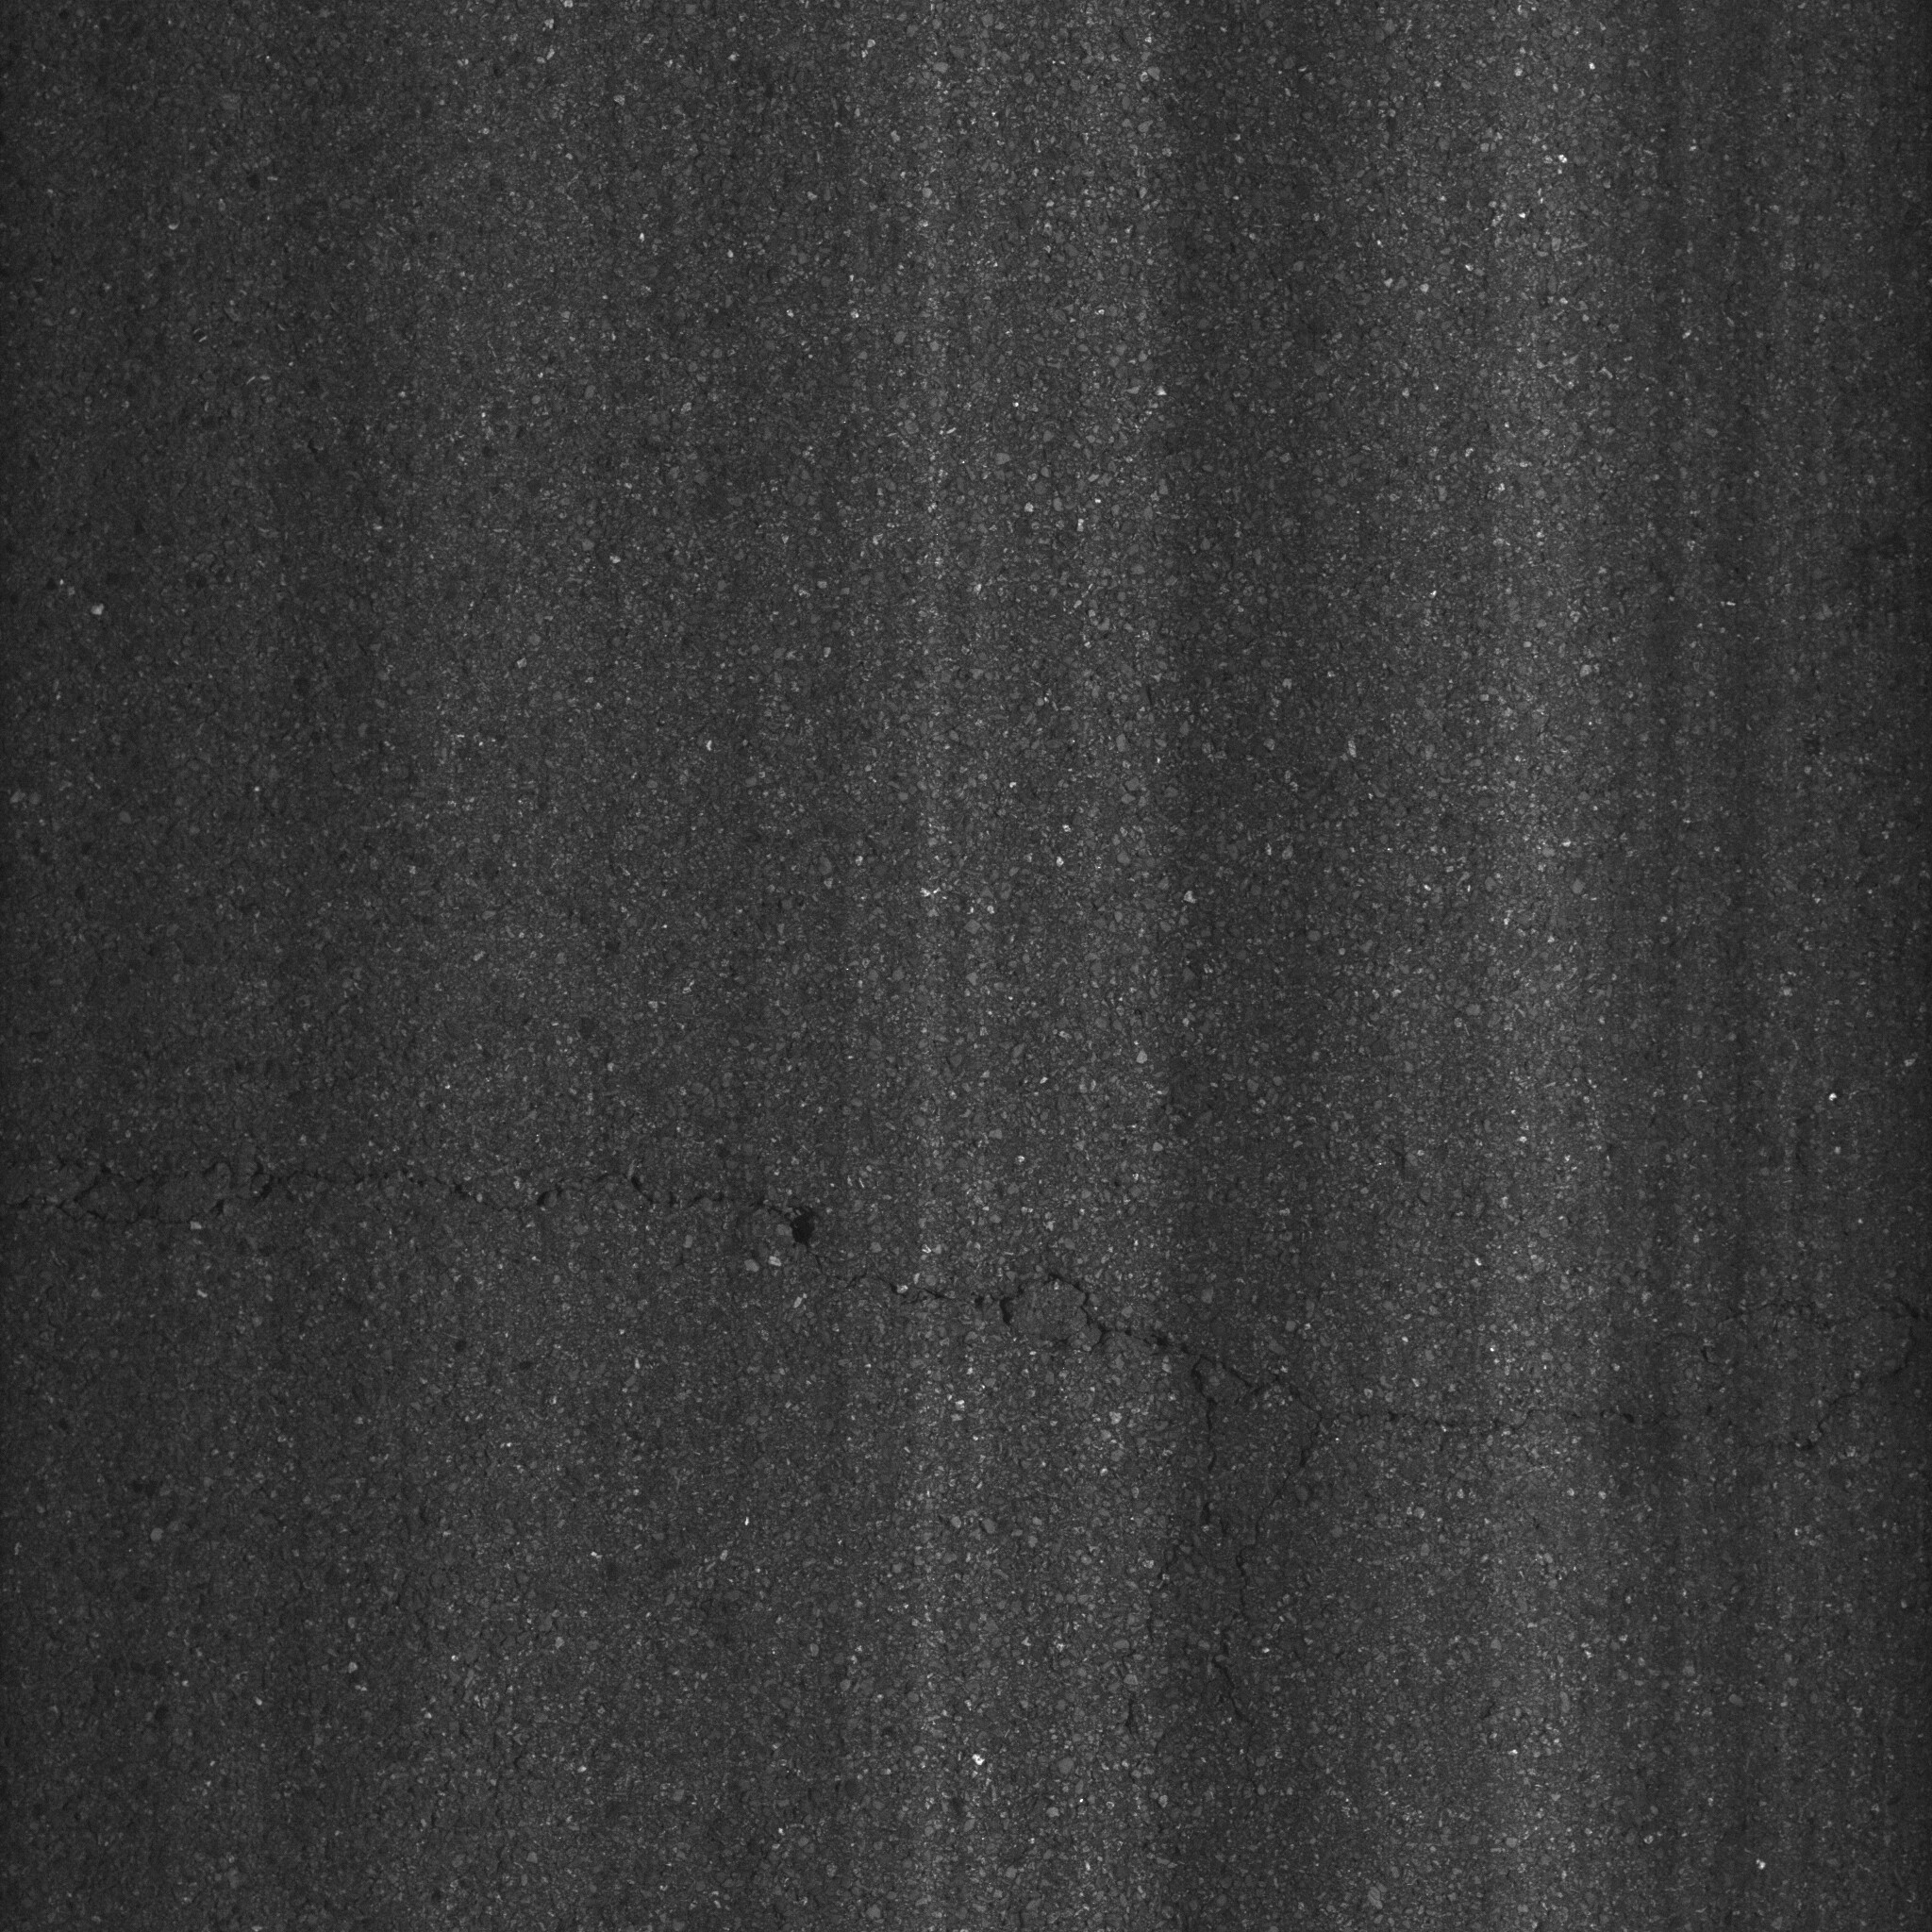transverse: (21, 1115, 1890, 1476)
